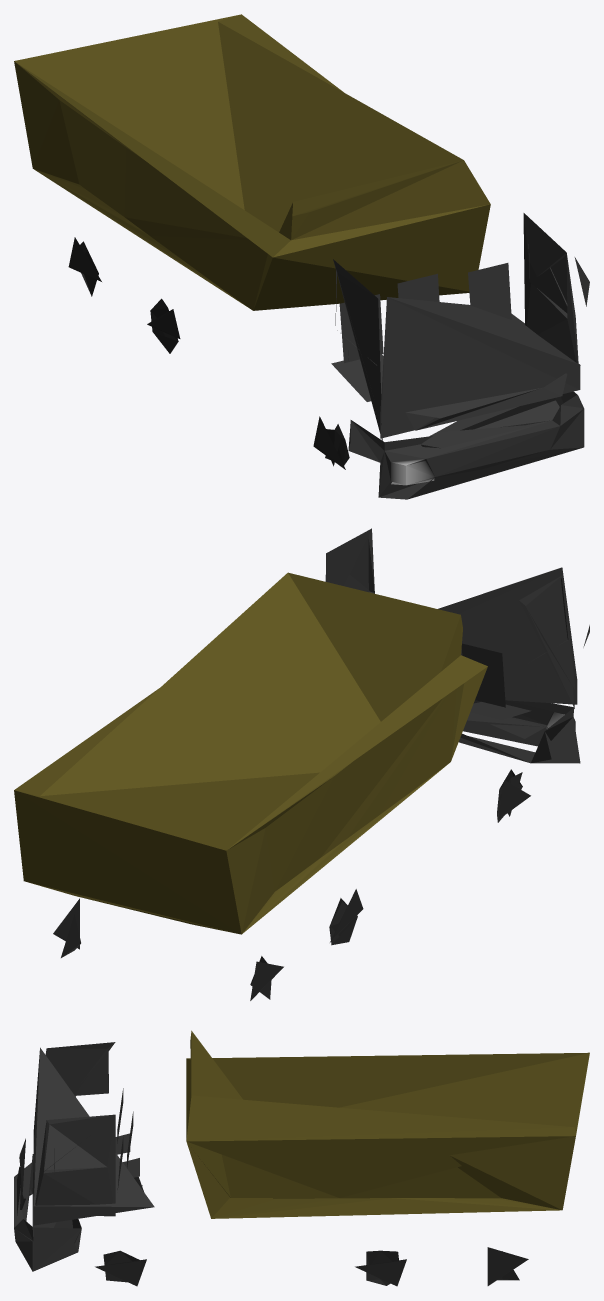
File: dump-truck.lod2.glb
3 views of the same model, one above another, from view 1: azimuth 30°, elevation 25°; view 2: azimuth 150°, elevation 25°; view 3: azimuth 270°, elevation 25° (orthographic). The views are drawn at different scales.
Parts seen in each view (by area): view 1: dump_truck_01_M_dumb_truck_B_01_0; view 2: dump_truck_01_M_dumb_truck_B_01_0; view 3: dump_truck_01_M_dumb_truck_B_01_0.
Boxes of the visible parts, box(x1,y1,x2,y2) form: dump_truck_01_M_dumb_truck_B_01_0: box(14, 14, 589, 499); dump_truck_01_M_dumb_truck_B_01_0: box(14, 528, 589, 1000); dump_truck_01_M_dumb_truck_B_01_0: box(14, 1030, 589, 1286).
Bounding box in the file's own units: 2.38 × 2.2 × 6.19.
